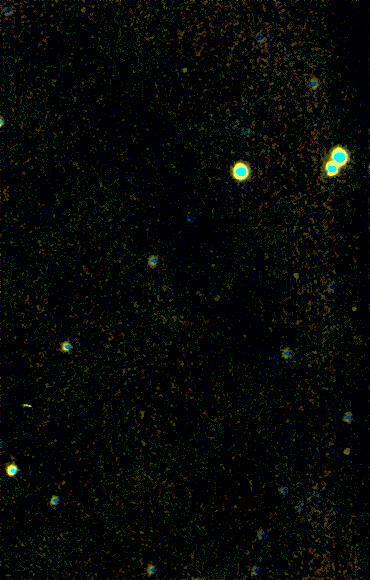star: (167, 52, 197, 82)
